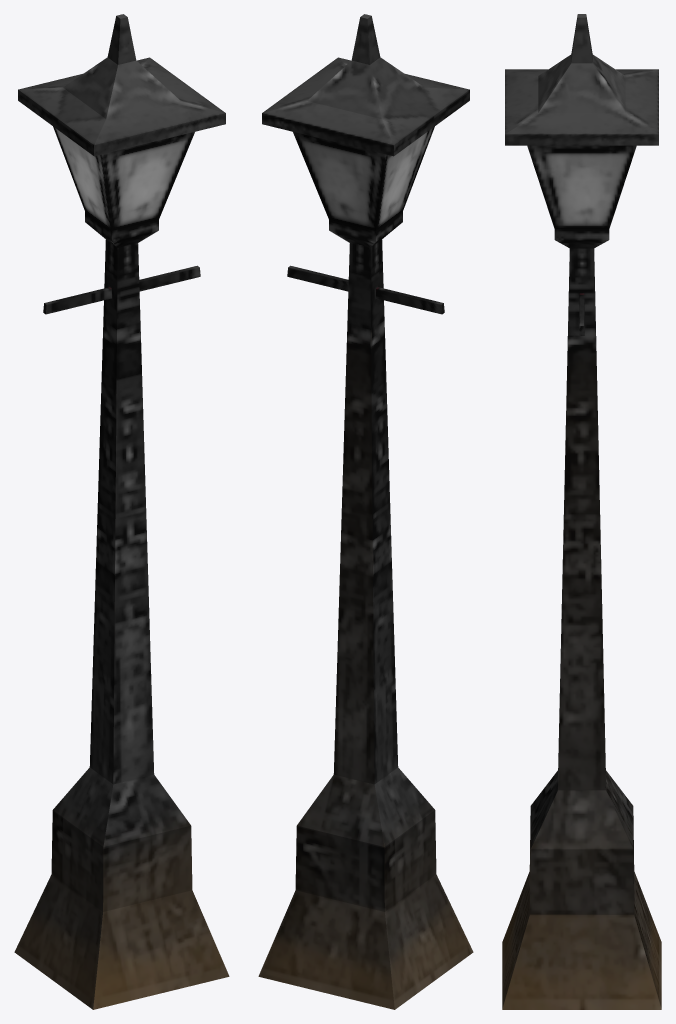
File: lamp.fbx
3 views of the same model, side by side, from view 1: azimuth 30°, elevation 25°; view 2: azimuth 150°, elevation 25°; view 3: azimuth 270°, elevation 25° (orthographic).
Parts seen in each view (by area): view 1: streetlamp; view 2: streetlamp; view 3: streetlamp.
Part boxes in pixels (x1,y1,x2,y2): streetlamp: [14, 14, 229, 1009]; streetlamp: [258, 14, 473, 1009]; streetlamp: [502, 14, 661, 1009].
Bounding box in the file's own units: 32.37 × 189 × 28.51.
1 material, 1 textured.
